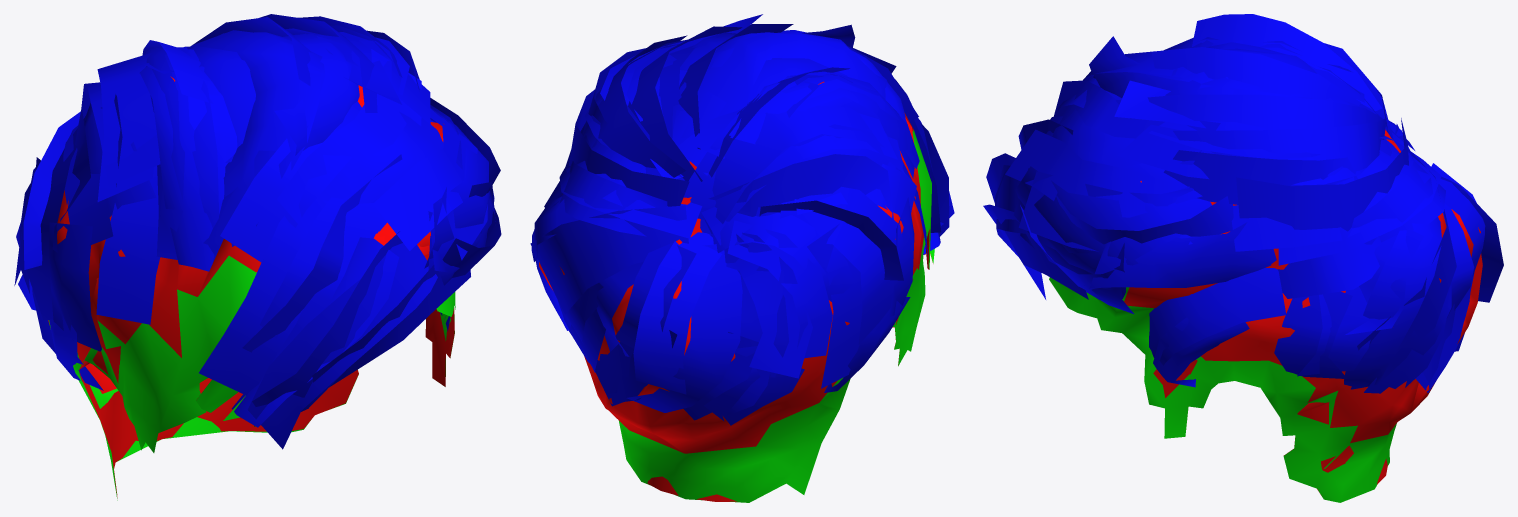
The model's file is hair_004.obj.
3 renders of one model, left to right at view 1: azimuth 30°, elevation 25°; view 2: azimuth 150°, elevation 25°; view 3: azimuth 270°, elevation 25°, orthographic. The views are drawn at different scales.
Size of the model in its own units: 18.8 by 21.82 by 23.76.
